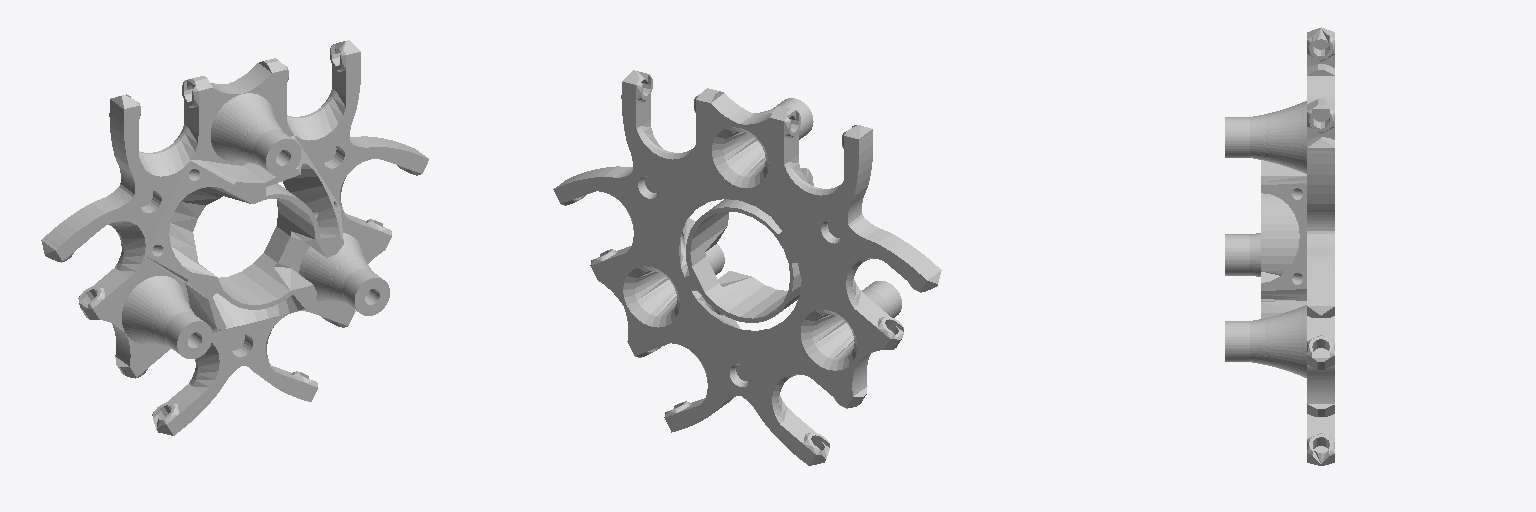
Rendered from Carriage v4_e.obj.
3 renders of one model, left to right at view 1: azimuth 30°, elevation 25°; view 2: azimuth 150°, elevation 25°; view 3: azimuth 270°, elevation 25°, orthographic.
Parts seen in each view (by area): view 1: Mesh1 Model; view 2: Mesh1 Model; view 3: Mesh1 Model.
Boxes of the visible parts, box(x1,y1,x2,y2) form: Mesh1 Model: box(41, 40, 428, 435); Mesh1 Model: box(553, 70, 941, 465); Mesh1 Model: box(1225, 27, 1334, 465).
Size of the model in its own units: 107 by 92.88 by 26.94.